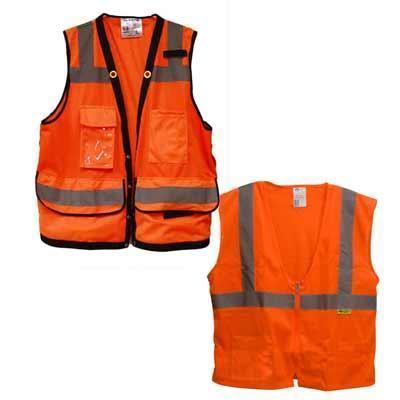Glass: (28, 15, 236, 250), (195, 175, 397, 394)
